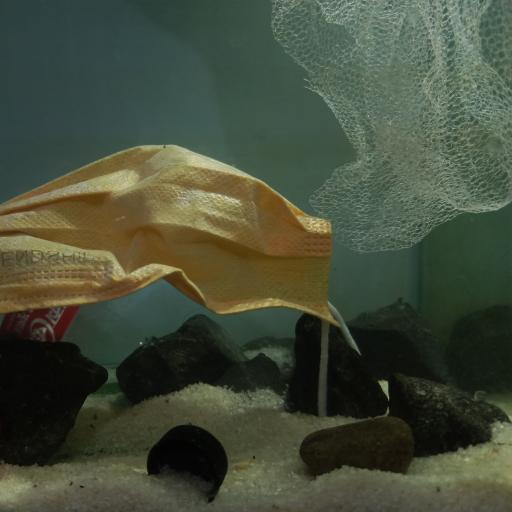bottle_cap: (144, 418, 230, 504)
mask: (0, 142, 341, 330)
net: (267, 0, 512, 258)
plastic_bottle: (4, 304, 162, 370)
